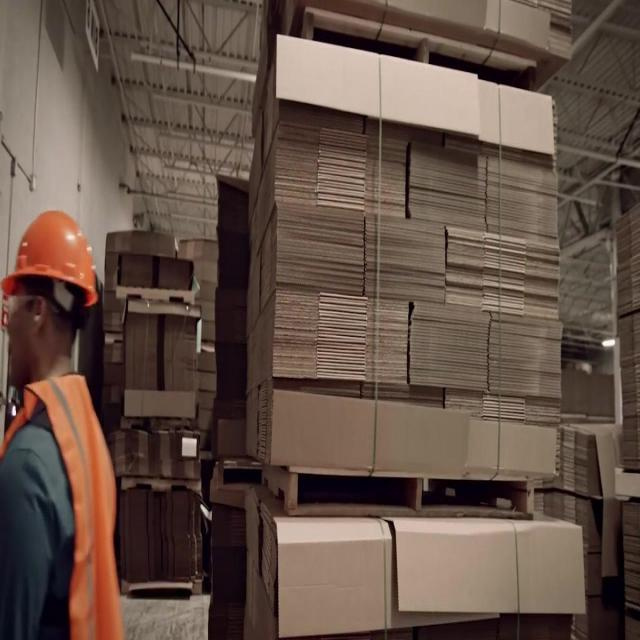Reflective-Jacket: (0, 362, 129, 640)
Safety-Helmet: (0, 195, 108, 322)
